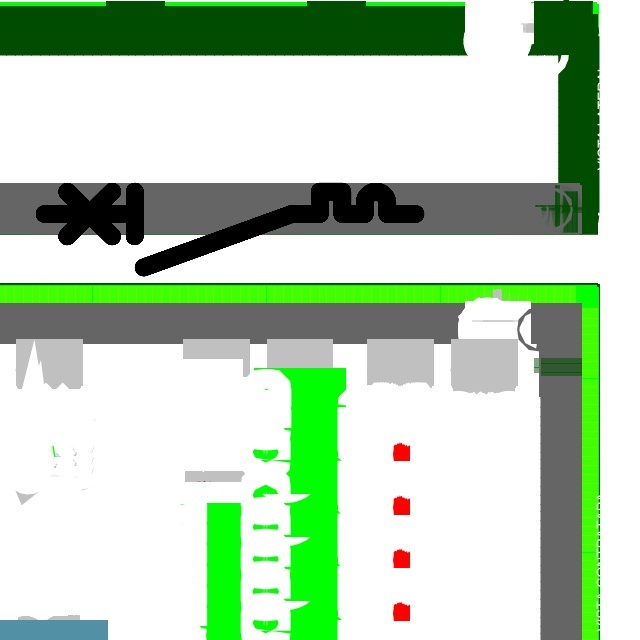interruptor_termomagnetico: (35, 182, 425, 277)
